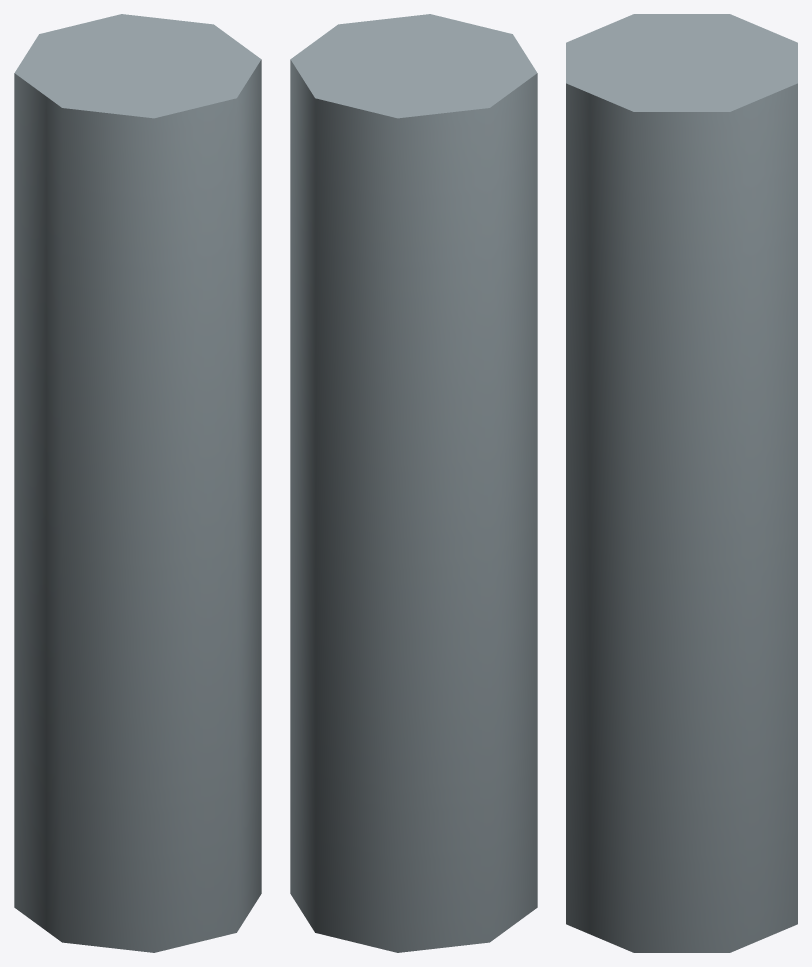
The model's file is strut_vertical.glb.
3 views of the same model, side by side, from view 1: azimuth 30°, elevation 25°; view 2: azimuth 150°, elevation 25°; view 3: azimuth 270°, elevation 25° (orthographic).
Visible parts, largest first — view 1: strut_vertical; view 2: strut_vertical; view 3: strut_vertical.
Part boxes in pixels (left/top/right/bottom): strut_vertical: left=14, top=14, right=261, bottom=952; strut_vertical: left=290, top=14, right=537, bottom=952; strut_vertical: left=566, top=14, right=797, bottom=952.
Size of the model in its own units: 0.5 by 2 by 0.5.
Materials: 1 (1 with a texture image).
